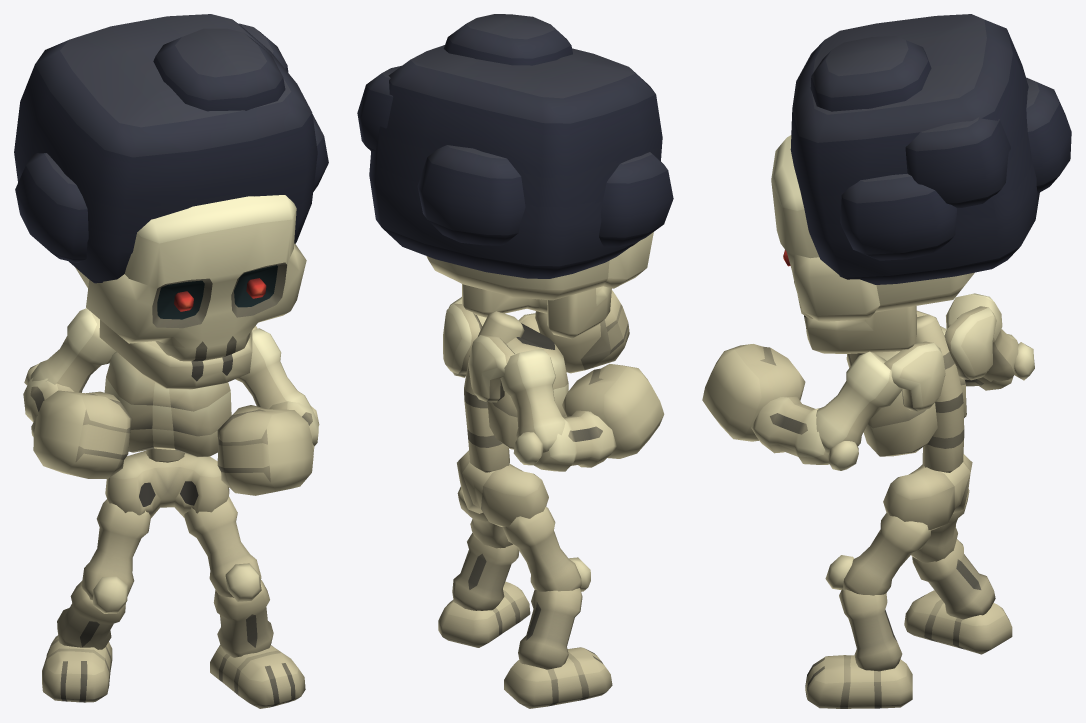
The model's file is skeleton-warrior.glb.
3 renders of one model, left to right at view 1: azimuth 30°, elevation 25°; view 2: azimuth 150°, elevation 25°; view 3: azimuth 270°, elevation 25°, orthographic. The views are drawn at different scales.
Visible parts, largest first — view 1: SkeletonMonster; view 2: SkeletonMonster; view 3: SkeletonMonster.
Boxes of the visible parts, left/top/right/bottom form: SkeletonMonster: left=14, top=14, right=328, bottom=708; SkeletonMonster: left=357, top=14, right=673, bottom=708; SkeletonMonster: left=702, top=14, right=1071, bottom=708.
Bounding box in the file's own units: 0.8562 × 1.87 × 0.9837.
Materials: 1 (1 with a texture image).
